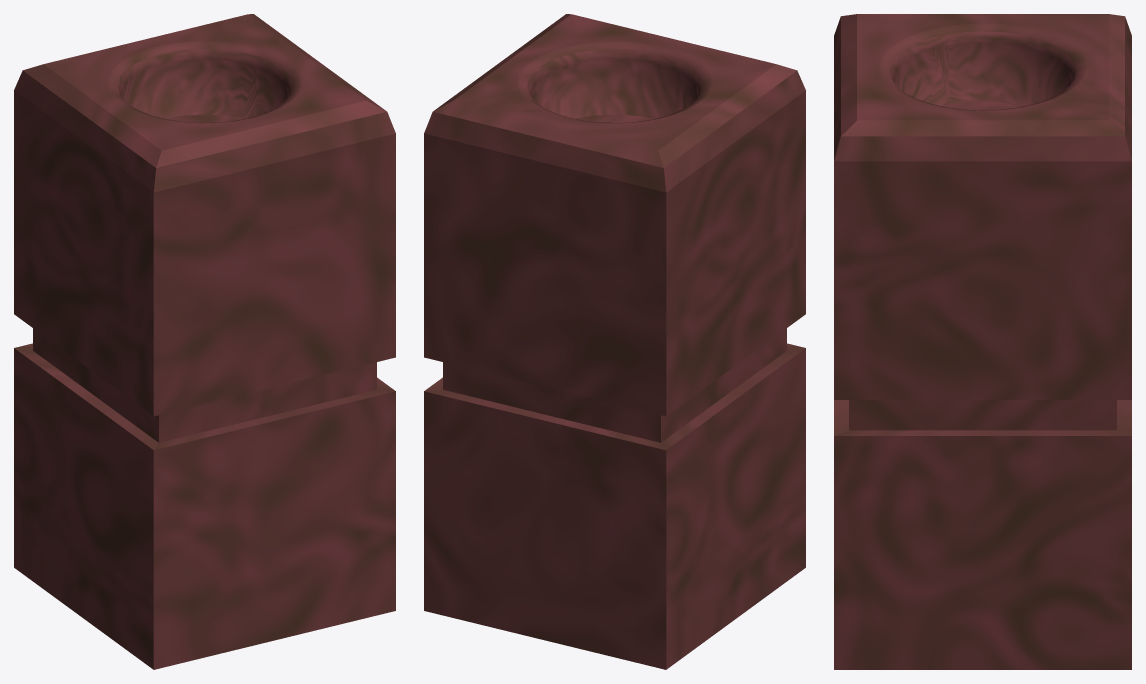
Rendered from piece_1101.obj.
3 renders of one model, left to right at view 1: azimuth 30°, elevation 25°; view 2: azimuth 150°, elevation 25°; view 3: azimuth 270°, elevation 25°, orthographic. The views are drawn at different scales.
Visible parts, largest first — view 1: btsh_Cube.011; view 2: btsh_Cube.011; view 3: btsh_Cube.011.
Boxes of the visible parts, bbox=[...] form: btsh_Cube.011: bbox=[14, 14, 395, 669]; btsh_Cube.011: bbox=[424, 14, 805, 669]; btsh_Cube.011: bbox=[834, 14, 1131, 669].
Size of the model in its own units: 0.15 by 0.3 by 0.15.
1 material, 1 textured.
